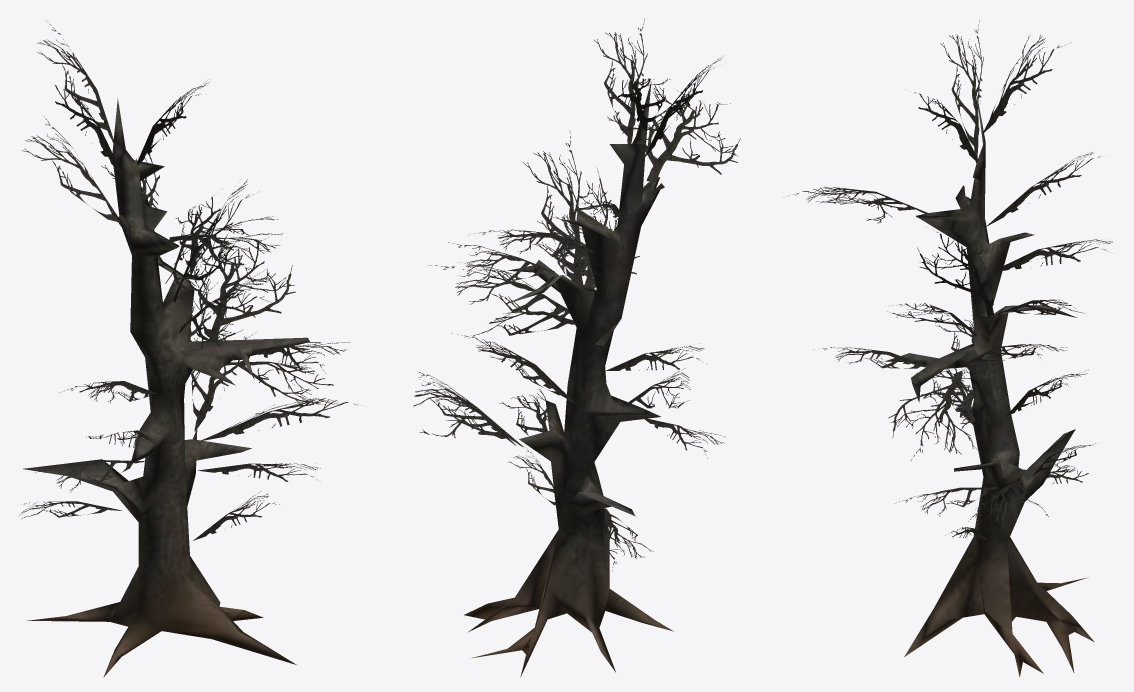
3 renders of one model, left to right at view 1: azimuth 30°, elevation 25°; view 2: azimuth 150°, elevation 25°; view 3: azimuth 270°, elevation 25°, orthographic. The views are drawn at different scales.
Visible parts, largest first — view 1: tree1; view 2: tree1; view 3: tree1.
Part boxes in pixels (<box>): tree1: <box>19,22,358,677</box>; tree1: <box>413,19,740,676</box>; tree1: <box>787,19,1112,677</box>.
Bounding box in the file's own units: 5.1 × 9.2 × 5.09.
Materials: 1 (1 with a texture image).
